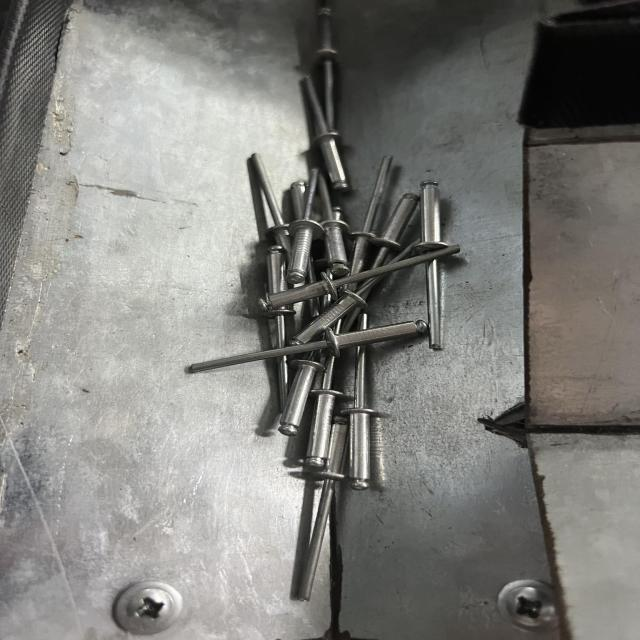rivet: (189, 320, 429, 368)
